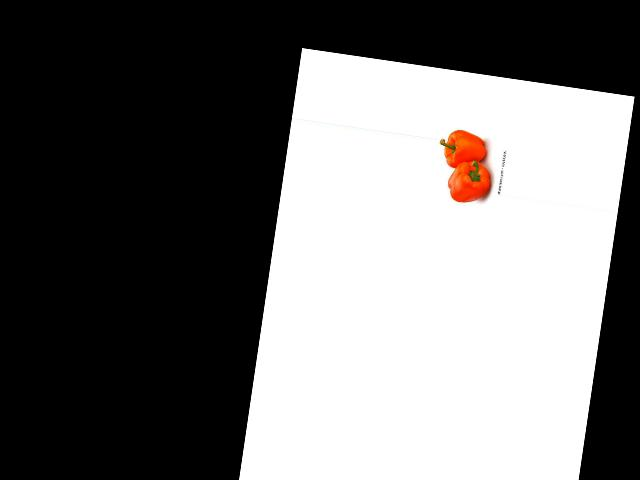bell_pepper: (444, 155, 497, 207)
